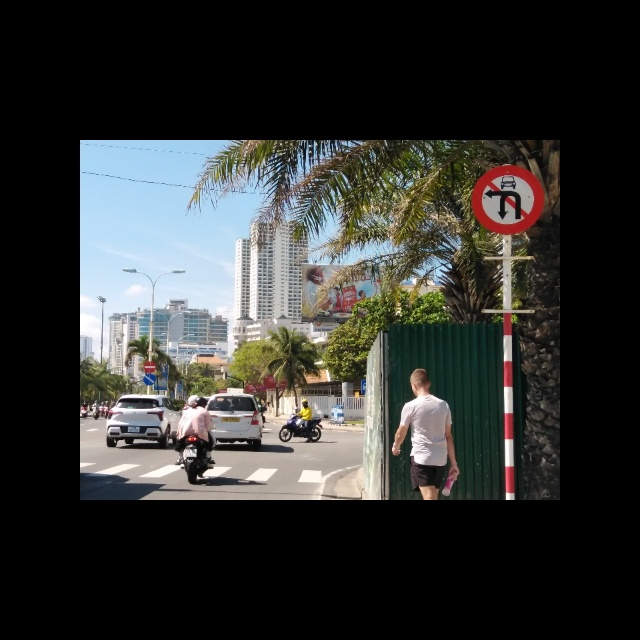Cấm xe ô tô quay đầu và rẽ trái: (471, 165, 544, 234)
